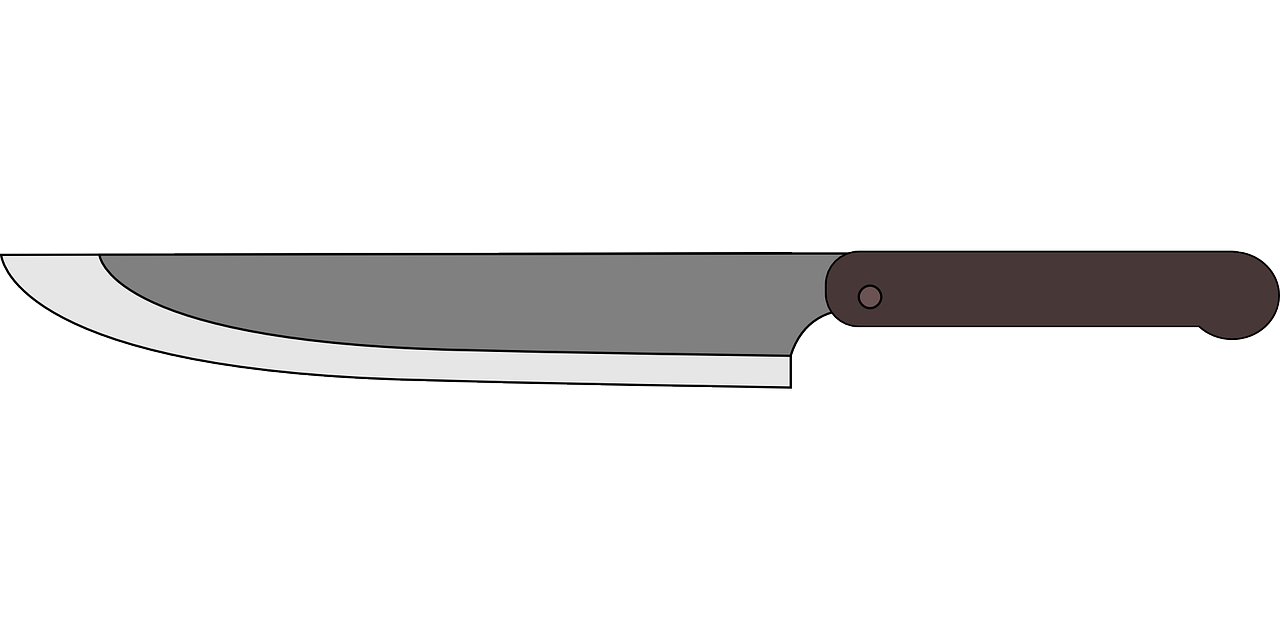knife: (4, 257, 1277, 387)
